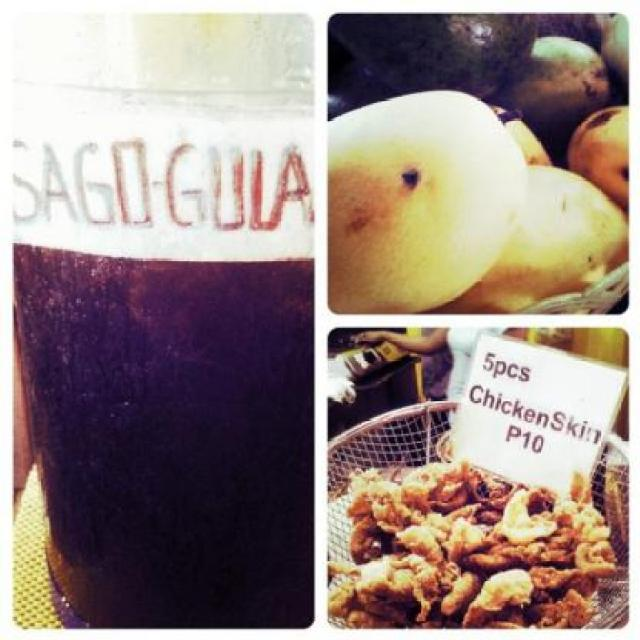Potato: (328, 10, 634, 316)
